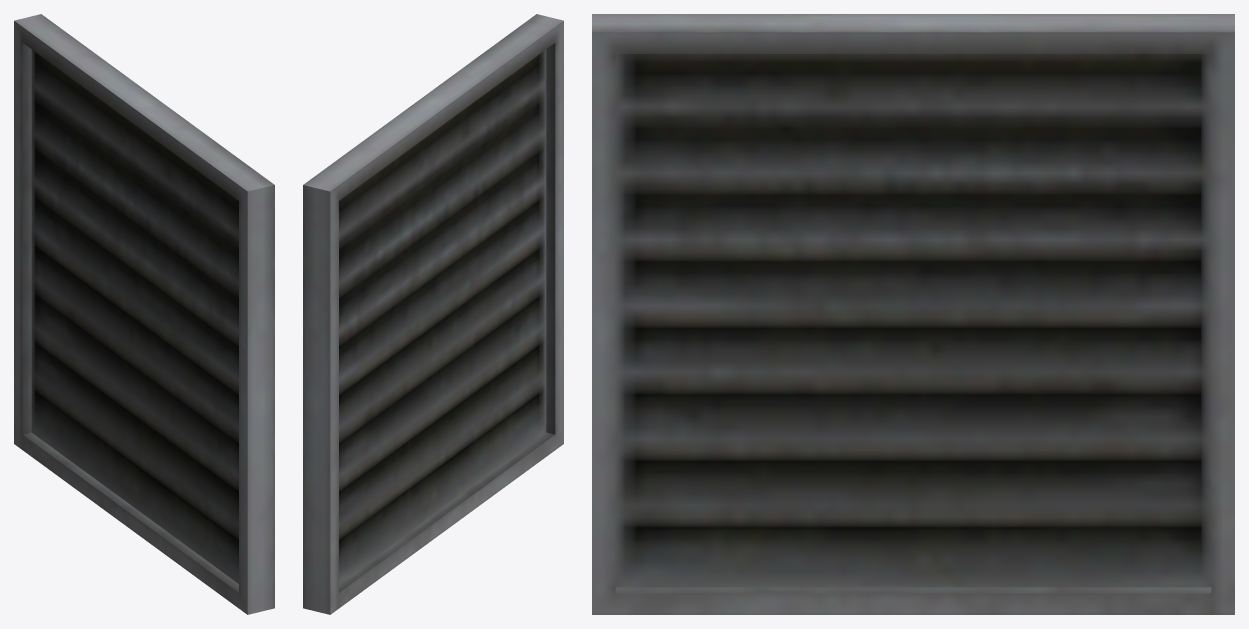
Rendered from Urban_VentCover_Model.fbx.
The picture shows the model from 3 angles, left to right: view 1: azimuth 30°, elevation 25°; view 2: azimuth 150°, elevation 25°; view 3: azimuth 270°, elevation 25°; orthographic projection. The views are drawn at different scales.
Parts seen in each view (by area): view 1: Urban_VentCover_Mesh; view 2: Urban_VentCover_Mesh; view 3: Urban_VentCover_Mesh.
Boxes of the visible parts, box(x1,y1,x2,y2) form: Urban_VentCover_Mesh: box(14, 14, 274, 614); Urban_VentCover_Mesh: box(303, 14, 563, 614); Urban_VentCover_Mesh: box(592, 14, 1234, 614).
Bounding box in the file's own units: 0.0673 × 1 × 1.
